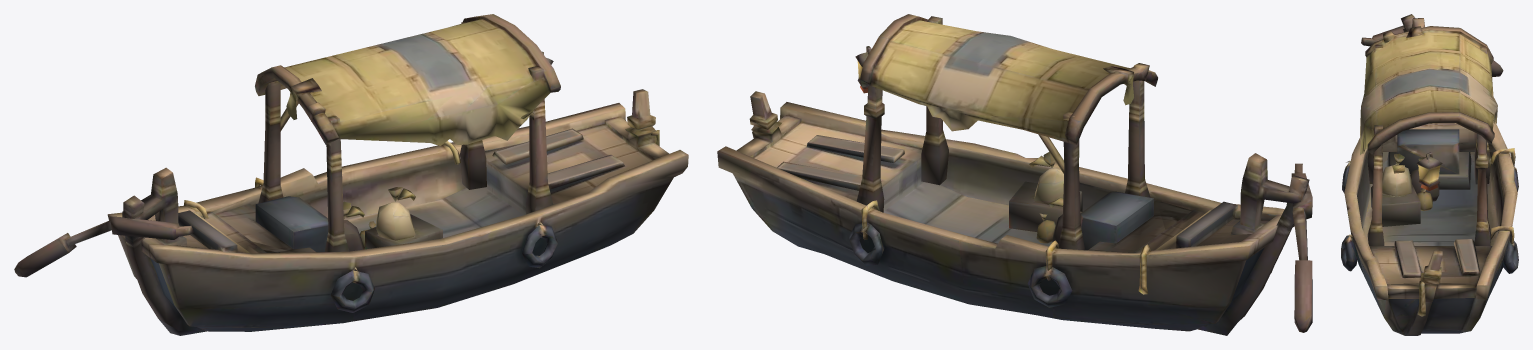
Rendered from ninebend_river_barge.glb.
3 renders of one model, left to right at view 1: azimuth 30°, elevation 25°; view 2: azimuth 150°, elevation 25°; view 3: azimuth 270°, elevation 25°, orthographic. The views are drawn at different scales.
Parts seen in each view (by area): view 1: tripo_node_3478a540-4241-49a1-8896-a595232d5488; view 2: tripo_node_3478a540-4241-49a1-8896-a595232d5488; view 3: tripo_node_3478a540-4241-49a1-8896-a595232d5488.
Boxes of the visible parts, <box> form: tripo_node_3478a540-4241-49a1-8896-a595232d5488: <box>14,14,688,335</box>; tripo_node_3478a540-4241-49a1-8896-a595232d5488: <box>717,14,1312,335</box>; tripo_node_3478a540-4241-49a1-8896-a595232d5488: <box>1341,14,1518,335</box>.
Size of the model in its own units: 6.49 by 2.4 by 2.04.
Materials: 1 (1 with a texture image).
